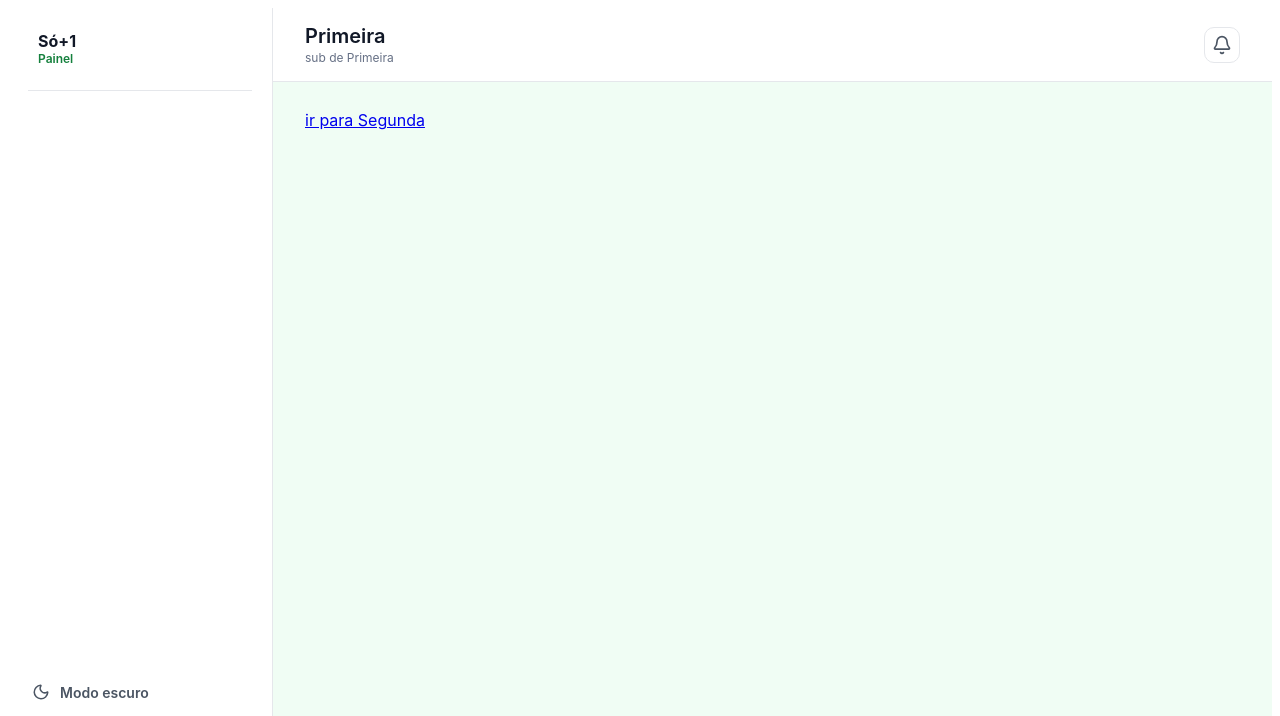
Test: layout como rota-pai › não remonta o DashboardLayout e troca o título ao navegar
Expected: the heading "Primeira" is shown, [305,24,394,48]
Expected: the text "sub de Primeira" is shown, [305,50,394,65]
Click the link "ir para Segunda": x=365, y=120 [305,110,425,130]
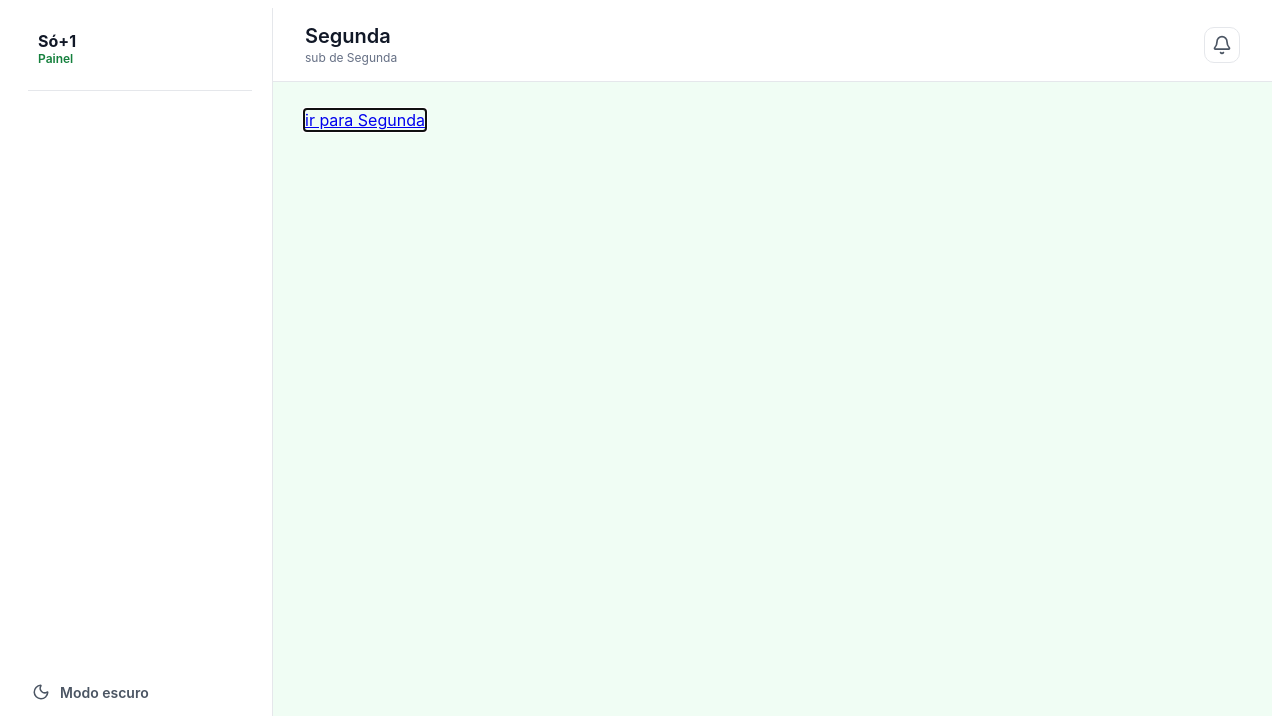
Now the heading "Segunda" is shown, box [305,24,397,48]
Now the heading "Primeira" is gone
